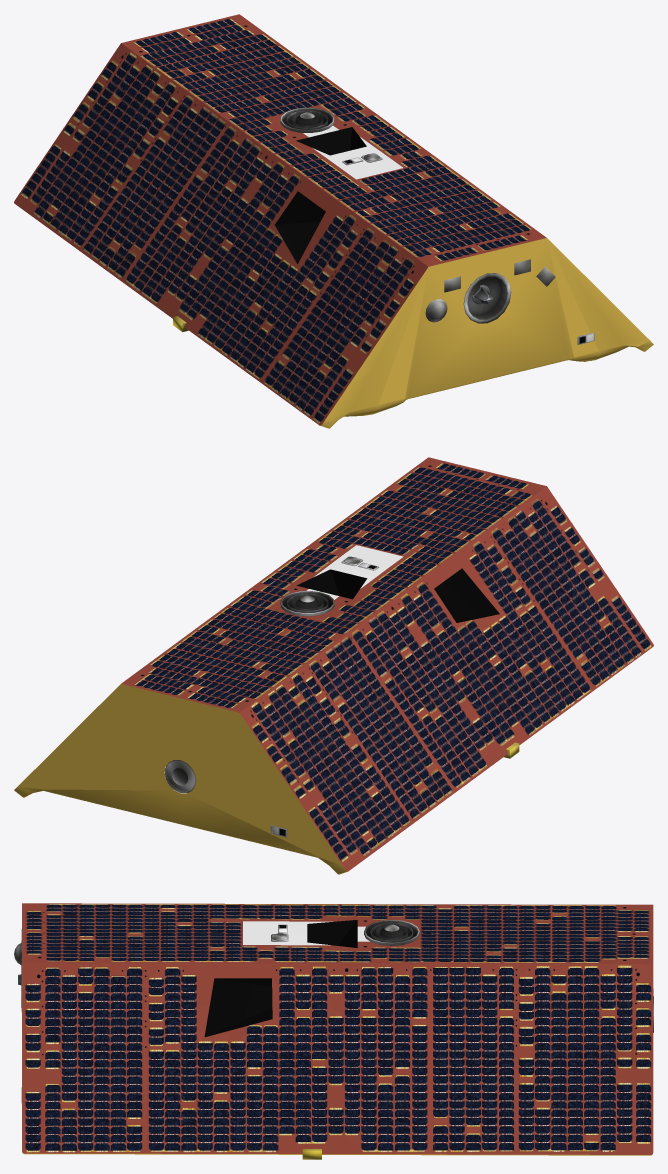
Rendered from graceFO.gltf.
The picture shows the model from 3 angles, top to bottom: view 1: azimuth 30°, elevation 25°; view 2: azimuth 150°, elevation 25°; view 3: azimuth 270°, elevation 25°; orthographic projection. The views are drawn at different scales.
Visible parts, largest first — view 1: BUS, Instruments; view 2: BUS, Instruments; view 3: BUS, Instruments.
Boxes of the visible parts, left/top/right/bottom form: BUS: left=14, top=14, right=653, bottom=428; Instruments: left=173, top=107, right=594, bottom=361; BUS: left=14, top=457, right=653, bottom=874; Instruments: left=165, top=556, right=519, bottom=837; BUS: left=22, top=903, right=653, bottom=1155; Instruments: left=14, top=919, right=653, bottom=1159.
Bounding box in the file's own units: 2.03 × 0.8541 × 3.25.
4 materials, 1 textured.
